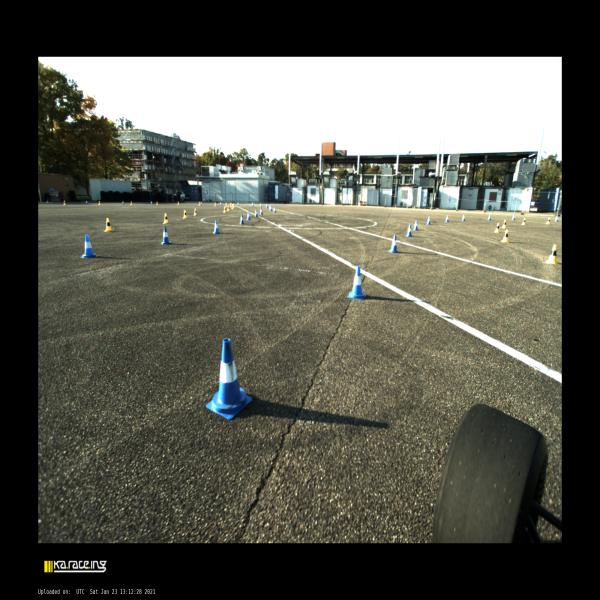blue_cone: (206, 338, 252, 420), (347, 265, 366, 300), (80, 234, 98, 258), (160, 226, 172, 245), (389, 235, 398, 253), (212, 220, 220, 234), (405, 224, 413, 237), (412, 220, 418, 230), (426, 216, 431, 225), (246, 211, 251, 220), (240, 214, 244, 224), (444, 215, 449, 222), (254, 209, 258, 217), (461, 214, 465, 221), (487, 214, 491, 221), (511, 214, 515, 220), (260, 208, 264, 214), (554, 216, 558, 221), (273, 207, 276, 213), (269, 205, 272, 211), (265, 203, 268, 208), (260, 202, 262, 208), (251, 202, 254, 206), (46, 200, 48, 204), (237, 202, 239, 206), (122, 201, 124, 204), (150, 201, 152, 204), (86, 201, 87, 204), (220, 202, 221, 205), (201, 202, 202, 204)
yellow_cone: (545, 244, 559, 264), (104, 218, 114, 232), (501, 228, 509, 242), (162, 213, 170, 224), (494, 222, 500, 232), (182, 210, 187, 219), (501, 220, 506, 228), (521, 217, 525, 225), (546, 217, 550, 224), (194, 208, 197, 216), (223, 207, 226, 213), (227, 205, 230, 211), (63, 200, 66, 205), (98, 201, 101, 205), (130, 201, 133, 205), (225, 202, 227, 207), (231, 204, 233, 209), (230, 203, 232, 207), (156, 202, 158, 205), (233, 203, 234, 208), (215, 202, 216, 206), (199, 202, 200, 206), (178, 202, 179, 205)
